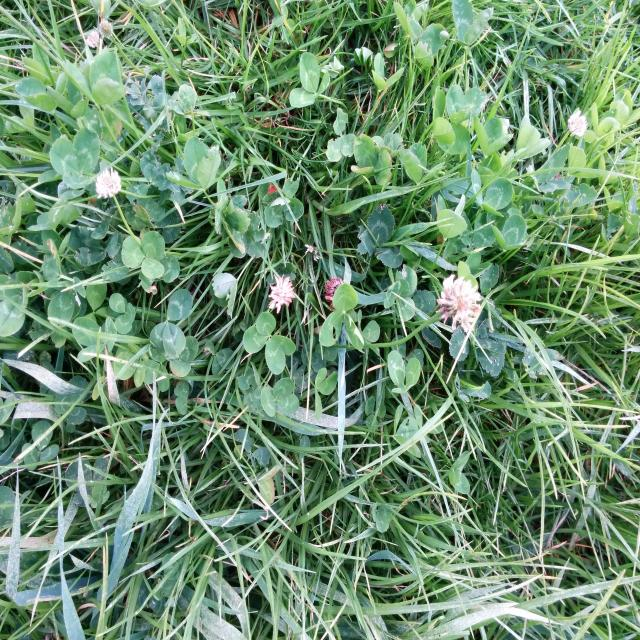Four Leaf Clover: (244, 312, 296, 375)
